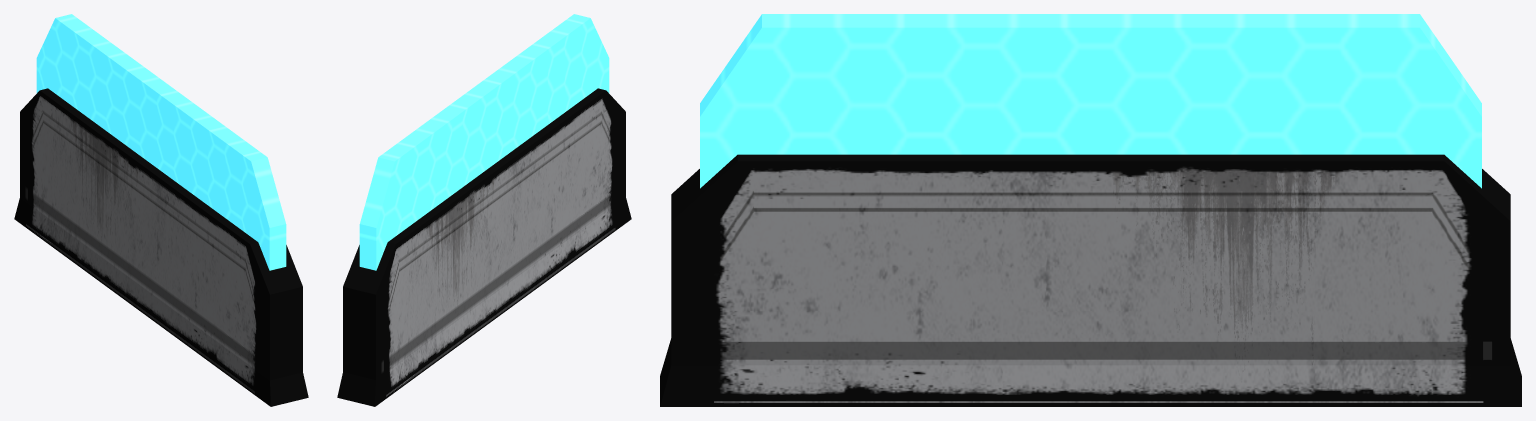
Rendered from barricade.fbx.
3 renders of one model, left to right at view 1: azimuth 30°, elevation 25°; view 2: azimuth 150°, elevation 25°; view 3: azimuth 270°, elevation 25°, orthographic. The views are drawn at different scales.
Visible parts, largest first — view 1: Base, Cover; view 2: Base, Cover; view 3: Base, Cover.
Boxes of the visible parts, x1,y1,x2,y2 form: Base: (14, 88, 308, 406); Cover: (36, 14, 286, 270); Base: (337, 88, 631, 406); Cover: (359, 14, 609, 270); Base: (660, 154, 1521, 406); Cover: (700, 14, 1481, 188).
Bounding box in the file's own units: 38.21 × 213 × 448.
1 material, 1 textured.
